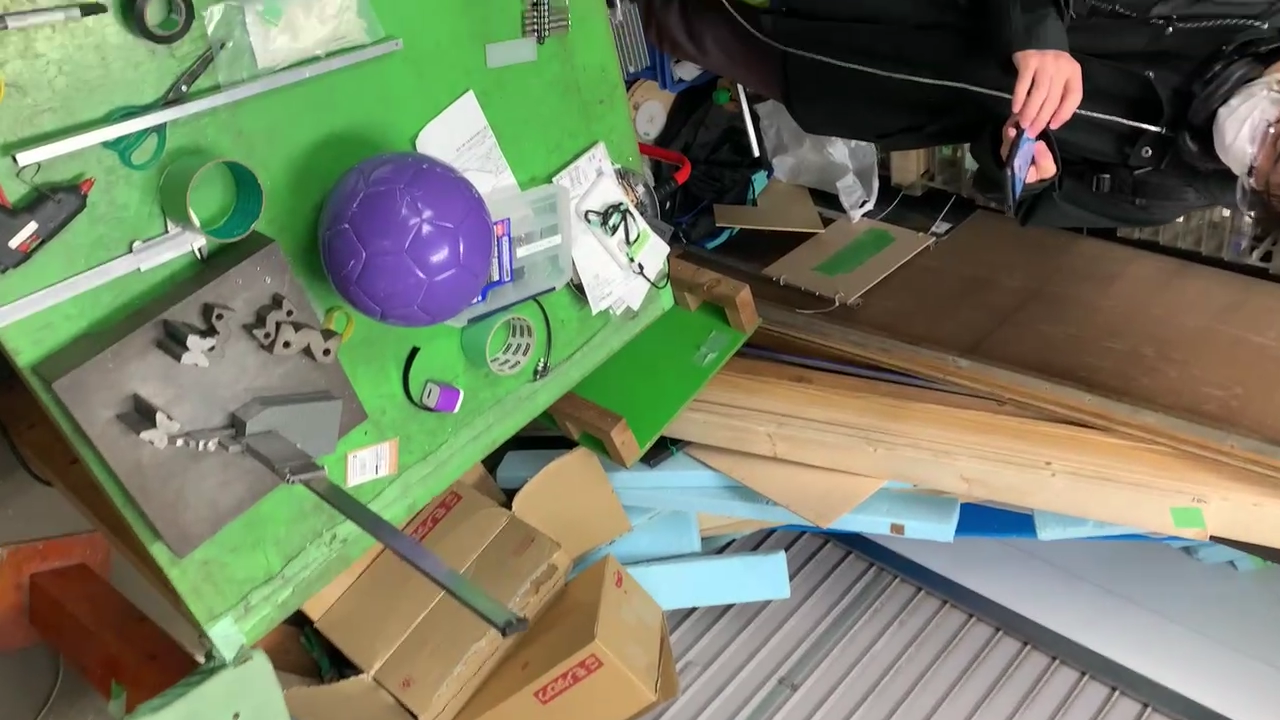purple: (317, 153, 493, 327)
